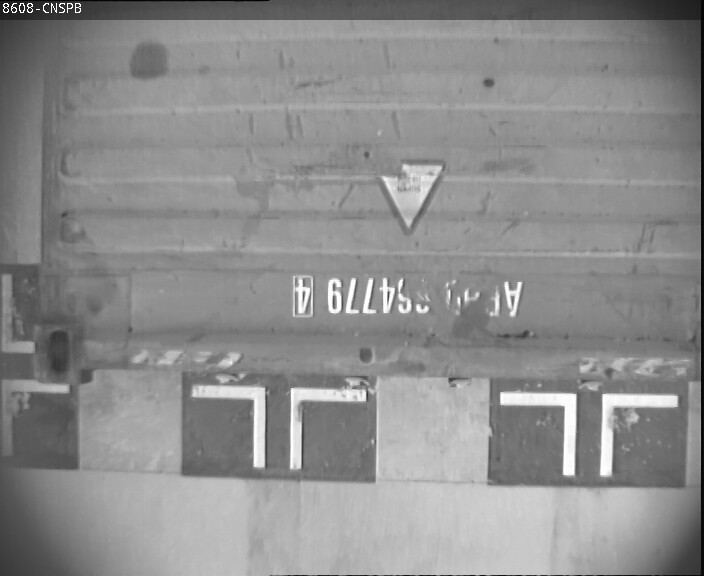groundmarker_1: (190, 383, 366, 472), (500, 391, 677, 476)
